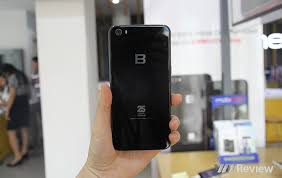bphone: (104, 21, 174, 151)
